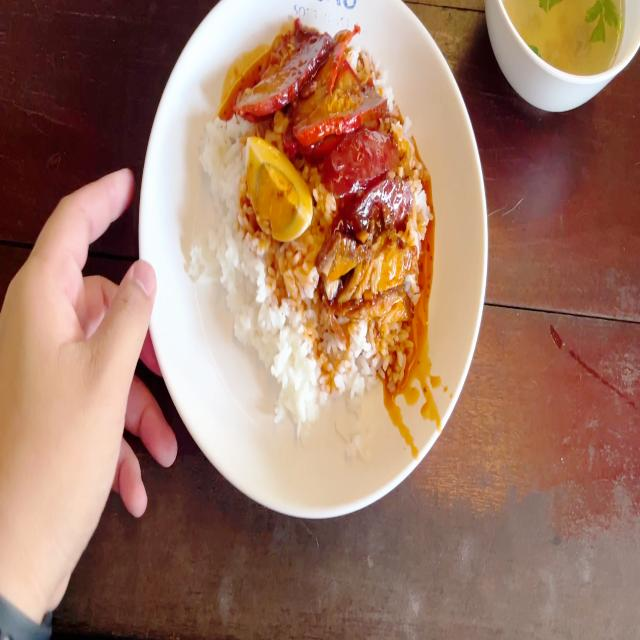boiled_egg: (242, 140, 312, 231)
chainese_sausage: (321, 133, 421, 220)
crispy_pork: (322, 233, 417, 322)
red_pork: (235, 33, 370, 128)
red_pork_and_crispy_pork: (216, 39, 427, 393)
rice: (212, 240, 321, 418), (206, 123, 243, 250)
